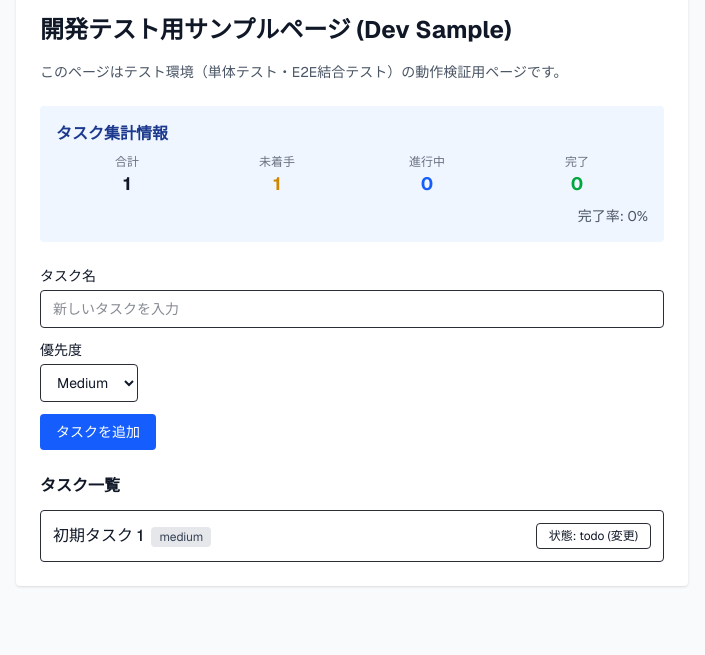
Test: DevSamplePage UI コンポーネント仕様 › タスク追加: フォームに入力して追加ボタンを押すとタスク一覧と統計が更新されること
This screenshot has width=705, height=655.
Step 1. Type "新規コンポーネントテストタスク" into the field with test id "task-title-input" → (352, 309), box [40,290,664,328]
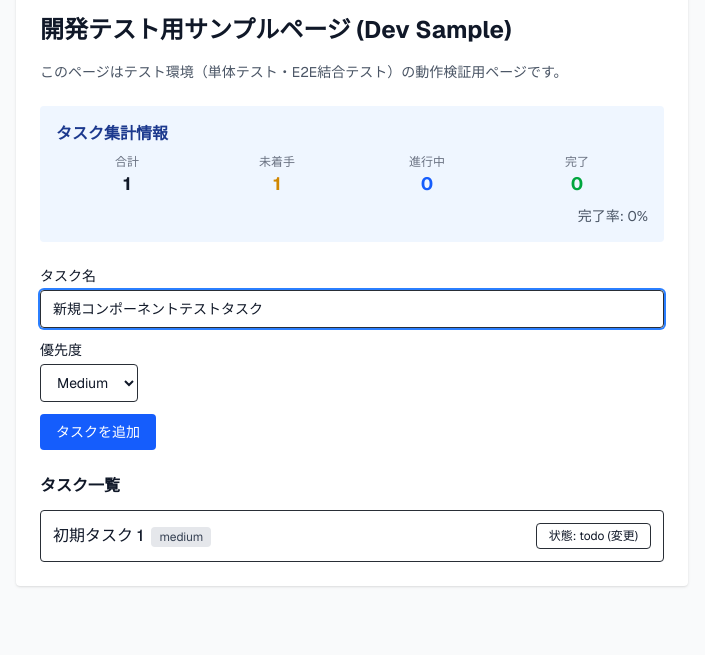
Step 2. Click the button with test id "add-task-button" → (98, 432), box [40,414,156,450]
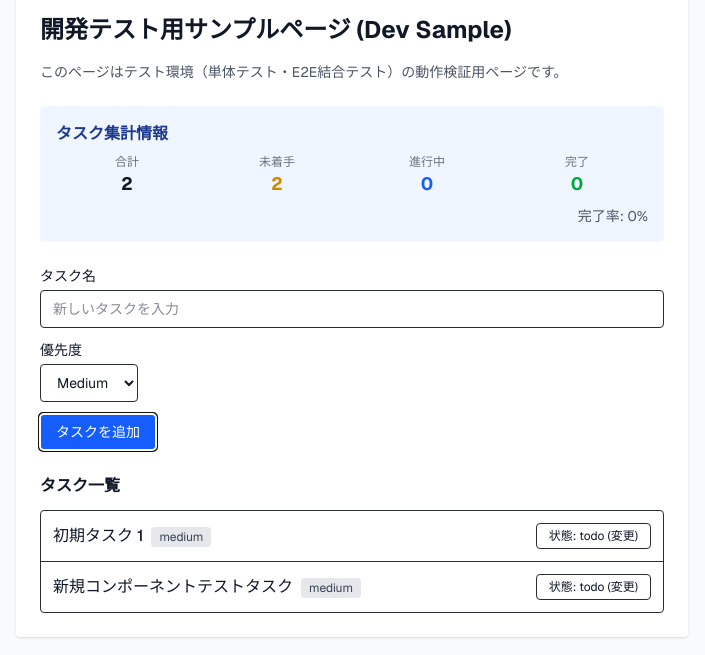
expect the number of list items with test id "task-item" is 2: met, box [41,511,663,562]; [53,574,651,600]
expect the list item with test id "task-item" shows "新規コンポーネントテストタスク": met, box [53,576,293,597]
expect the text with test id "stat-total" reads "2": met, box [121,172,133,195]
